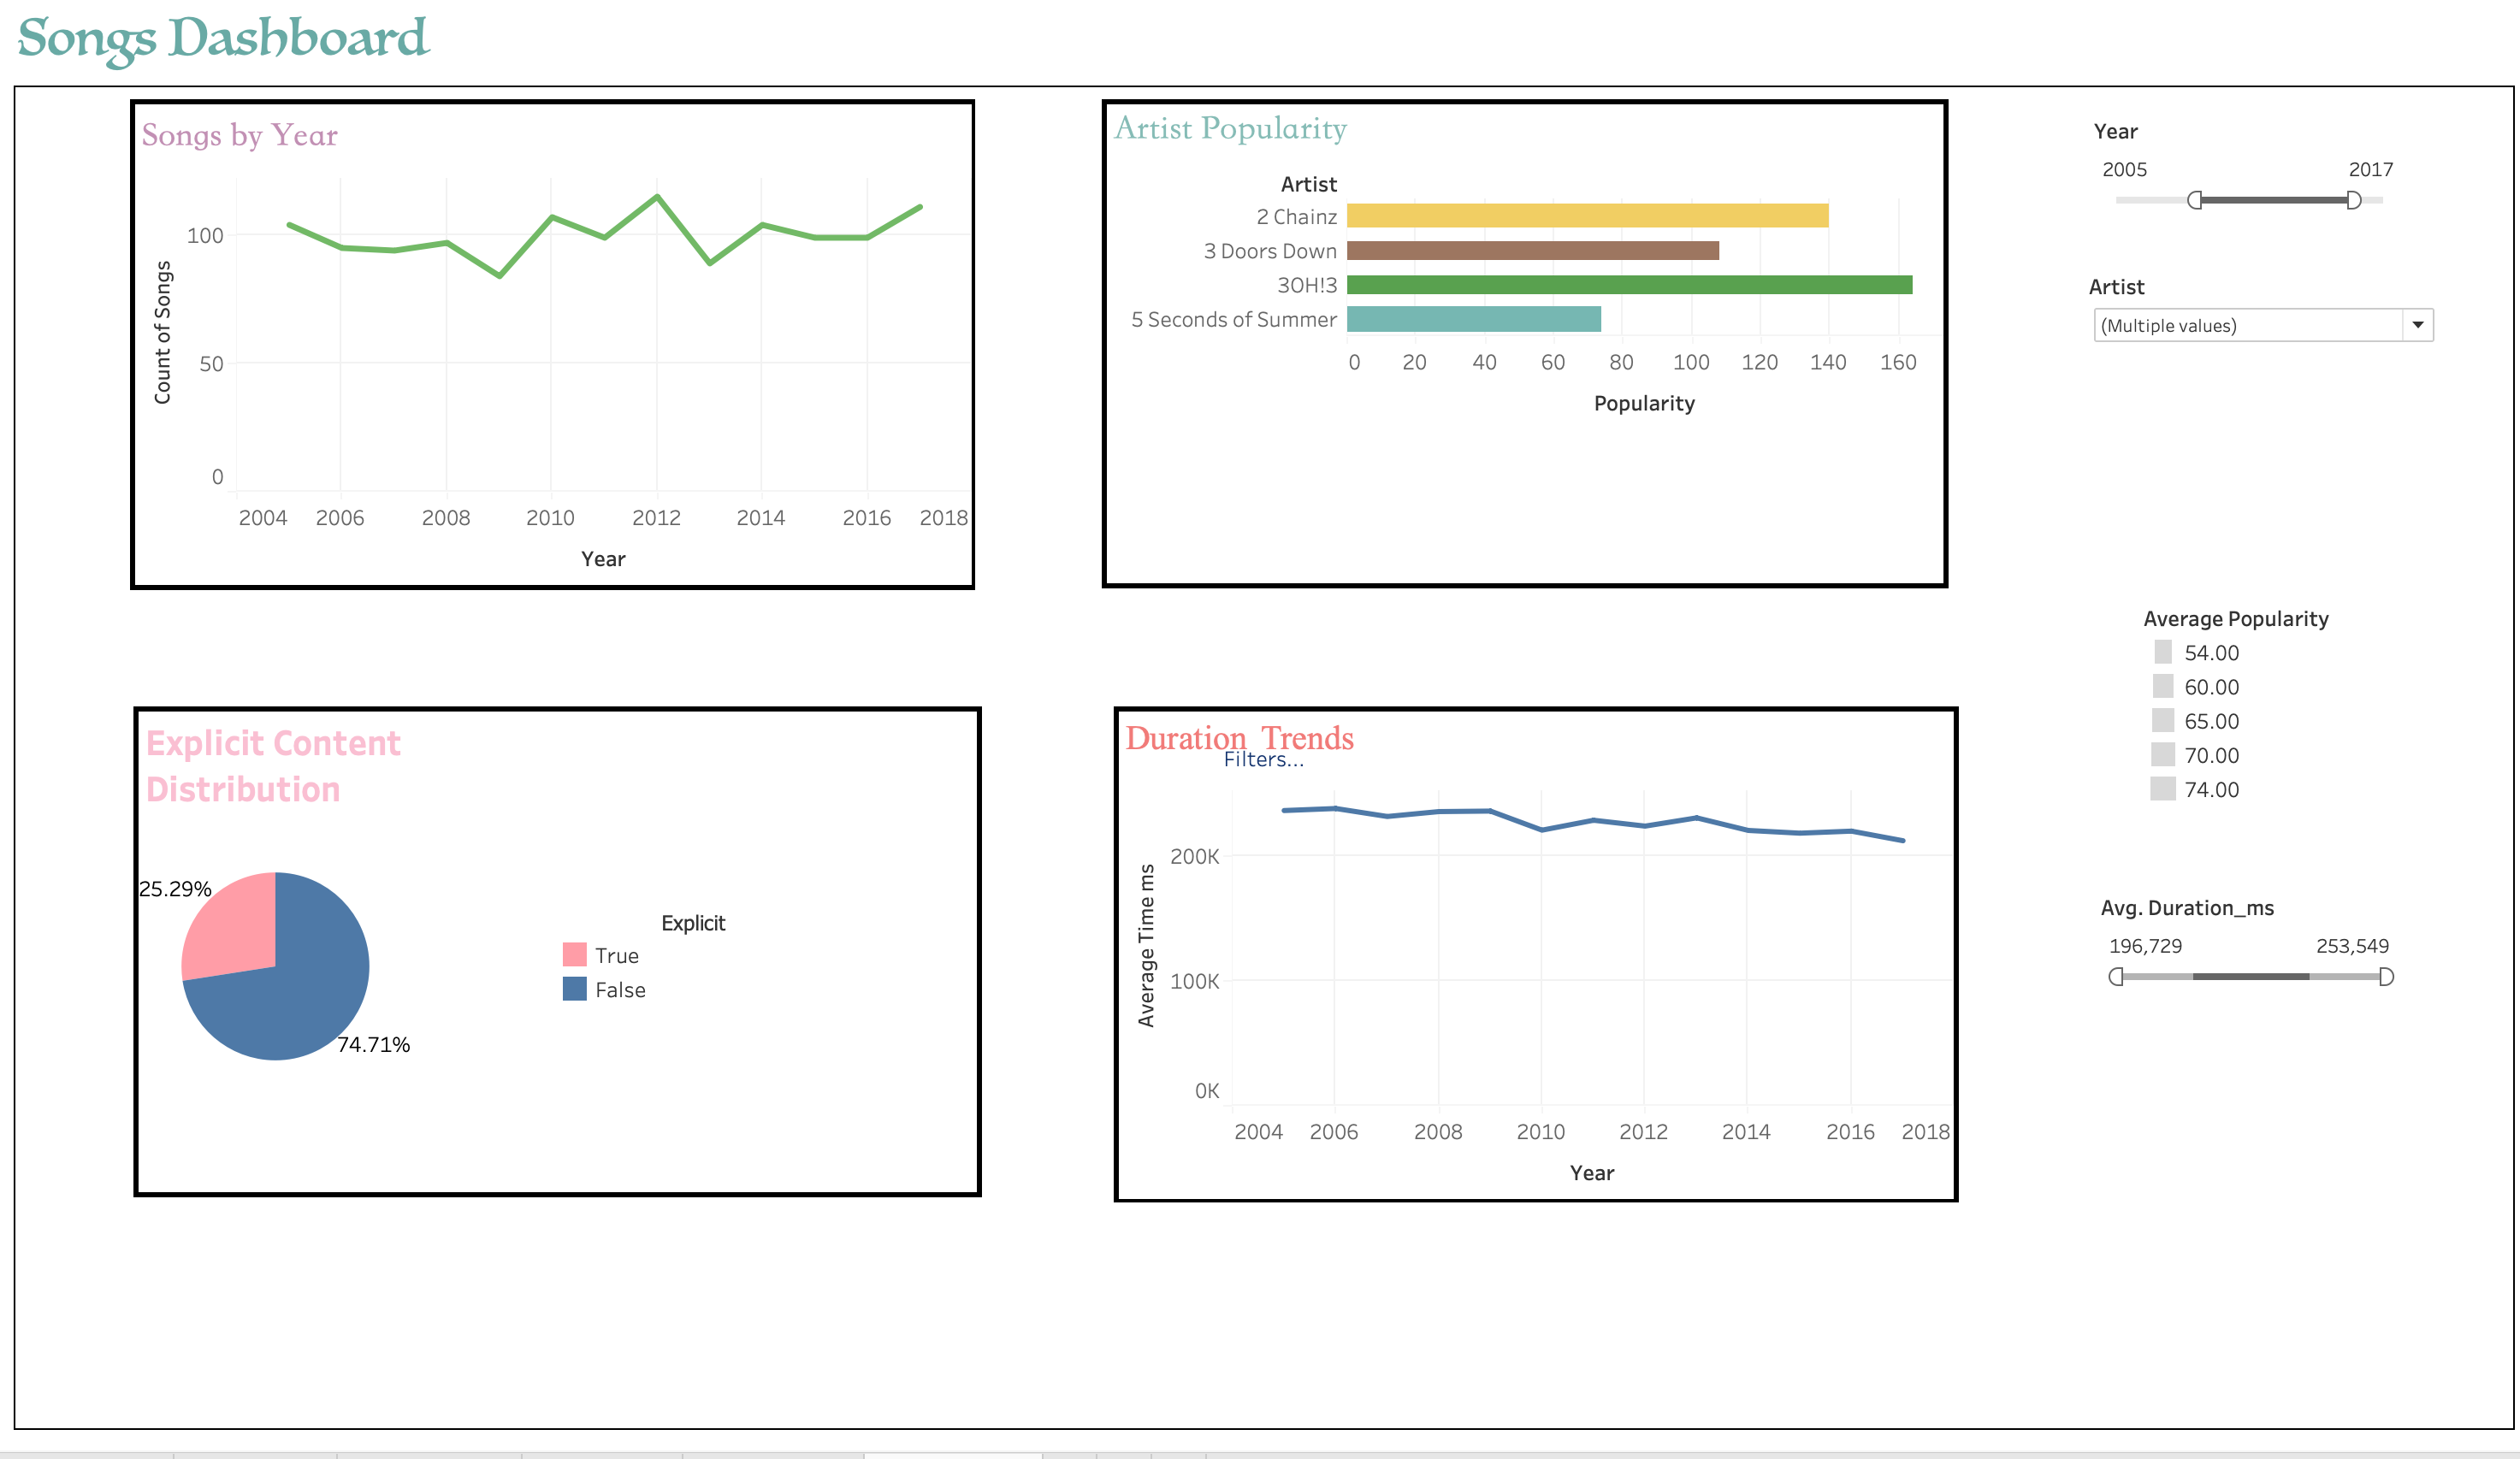

The page's visual inventory and layout, read from the dashboard file:
{"tool":"tableau","page":{"name":"Dashboard 1","canvas":[1000,1000],"units":"permille","ordinal":0},"visuals":[{"type":"dashboard-object","box":[0,10.5,18.4,31.4]},{"type":"title","box":[9.3,10.5,981.5,61.5]},{"type":"dashboard-object","param":"[com.tableau.addfilters].[0.0.0].[https://extensions.tableauusercontent.com/sand","box":[9.3,72,981.5,917.5]},{"type":"worksheet","title":"Songs by Year","mark":"Line","rows":["F2"],"cols":["F5"],"box":[53.6,78.5,332.8,335.1]},{"type":"worksheet","title":"Artist Popularity","mark":"Automatic","rows":["F1"],"cols":["F6"],"box":[436.1,78.5,332.8,333.8]},{"type":"filter","title":"Duration Trends","param":"[federated.03a8eff00w1may1gwnrn20t9pihj].[none:F5:qk]","box":[826.5,90.3,122.5,79.8]},{"type":"legend","title":"Artist Popularity","param":"[federated.03a8eff00w1may1gwnrn20t9pihj].[avg:F6:qk]","box":[846.2,422.4,107.1,155.2]},{"type":"worksheet","title":"Explicit Songs","mark":"Pie","box":[55.1,492.2,333.6,335.1]},{"type":"worksheet","title":"Duration Trends","mark":"Automatic","rows":["F3"],"cols":["F5"],"box":[441,492.2,332.7,339]},{"type":"filter","title":"Duration Trends","param":"[federated.03a8eff00w1may1gwnrn20t9pihj].[avg:F3:qk]","box":[829.4,619.6,118.6,79.4]},{"type":"legend","title":"Explicit Songs","param":"[federated.03a8eff00w1may1gwnrn20t9pihj].[none:F4:nk]","box":[221.9,630.9,107.1,102.1]}]}

Visuals, with their boxes on the dashboard's canvas, which has no fixed pixel size, in thousandths of its width and height (x1, y1, x2, y2). These are canvas units, not pixel positions in the 2520x1459 screenshot, which may show the page scaled, cropped or inside an application window:
dashboard-object: [left=0, top=10, right=18, bottom=42]
title: [left=9, top=10, right=991, bottom=72]
dashboard-object: [left=9, top=72, right=991, bottom=990]
"Songs by Year" worksheet (Line marks): [left=54, top=78, right=386, bottom=414]
"Artist Popularity" worksheet: [left=436, top=78, right=769, bottom=412]
"Duration Trends" filter: [left=826, top=90, right=949, bottom=170]
"Artist Popularity" legend: [left=846, top=422, right=953, bottom=578]
"Explicit Songs" worksheet (Pie marks): [left=55, top=492, right=389, bottom=827]
"Duration Trends" worksheet: [left=441, top=492, right=774, bottom=831]
"Duration Trends" filter: [left=829, top=620, right=948, bottom=699]
"Explicit Songs" legend: [left=222, top=631, right=329, bottom=733]
